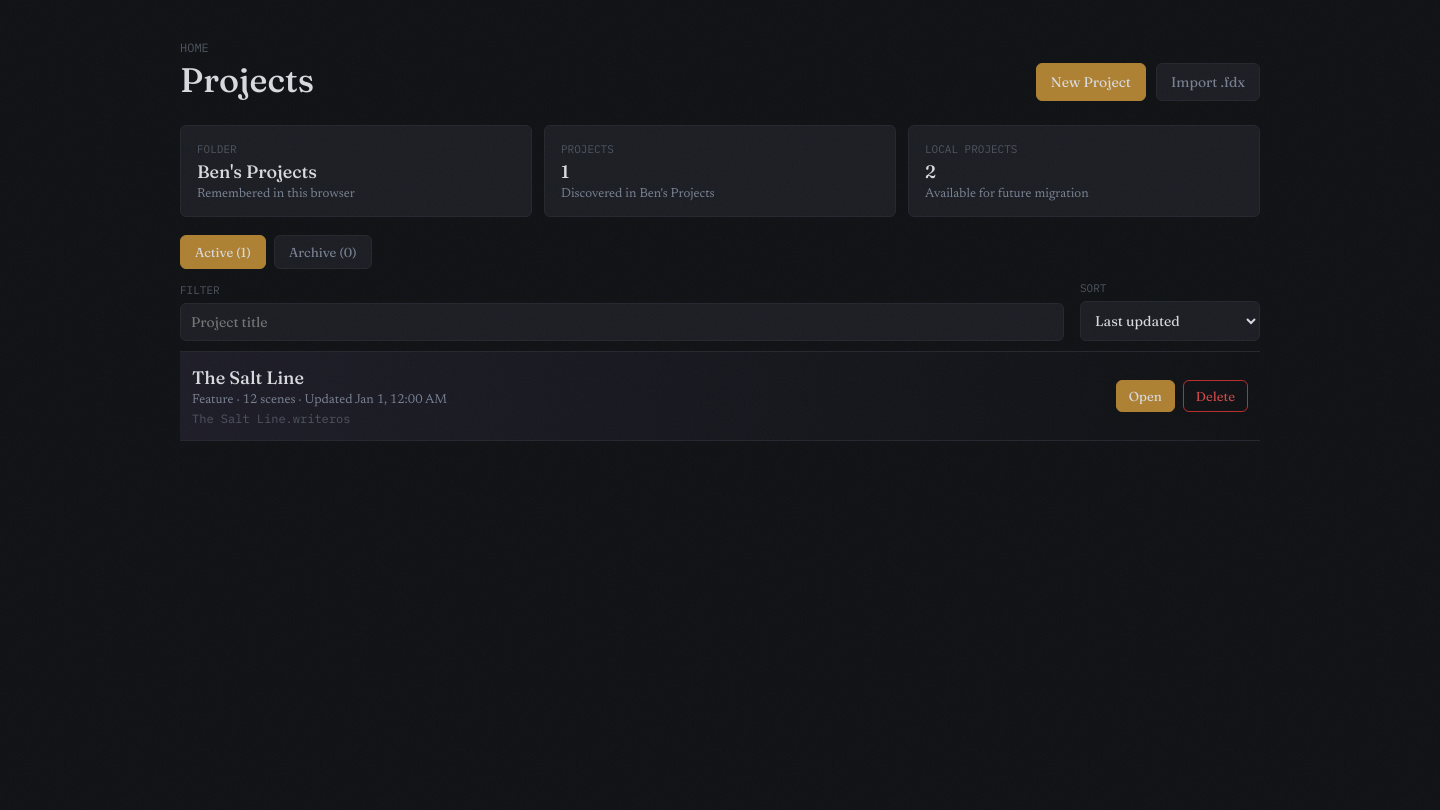
HomeSurface › project Delete (Slice 5a) › mentions the .writeros folder will be removed for folder-backed projects
Click the button with aria-label "Delete The Salt Line" at (1215,396), box [1183,380,1248,412]
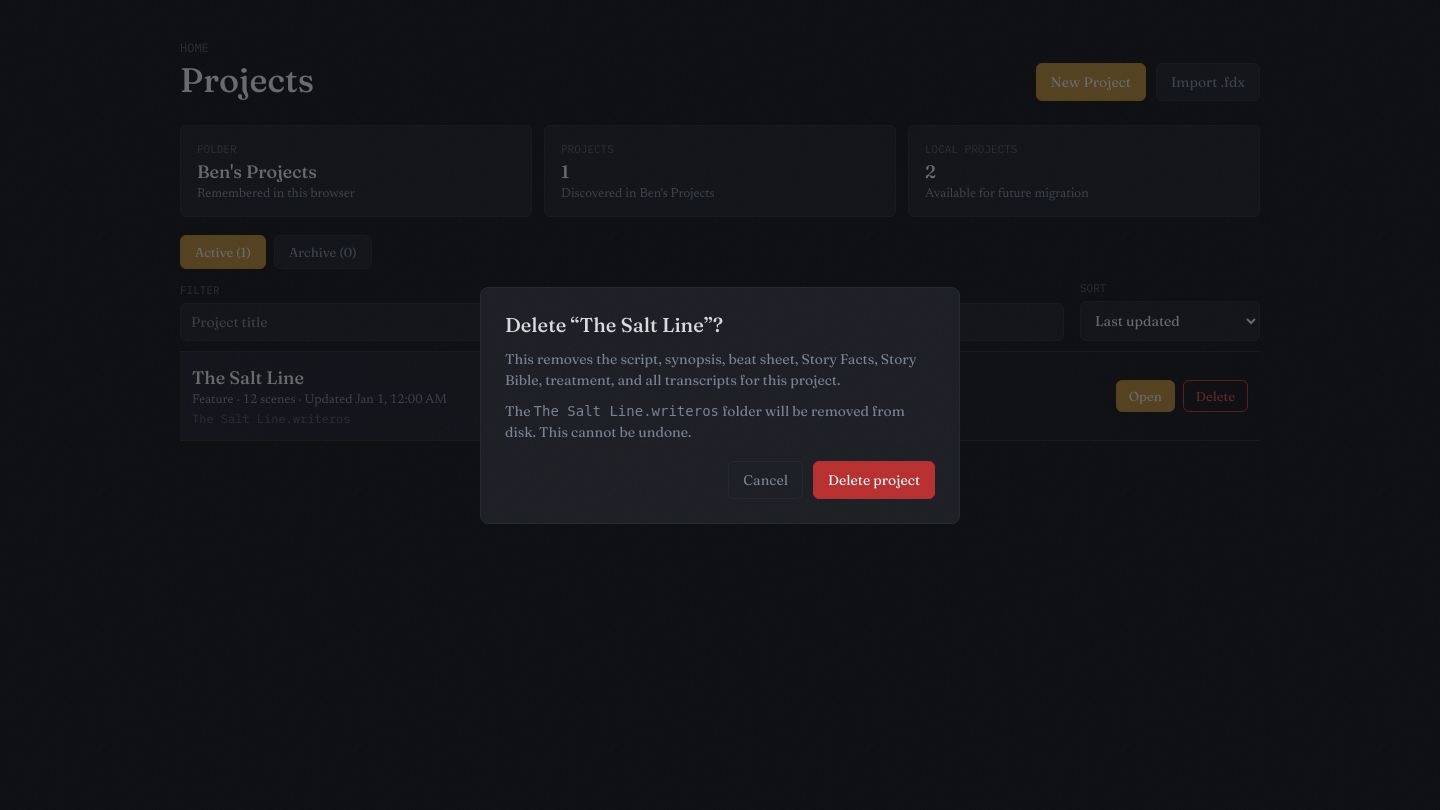
Check: the text "The Salt Line.writeros" is shown, box [534,402,719,418]
Check: the text "removed from disk" is shown, box [505,402,905,440]
